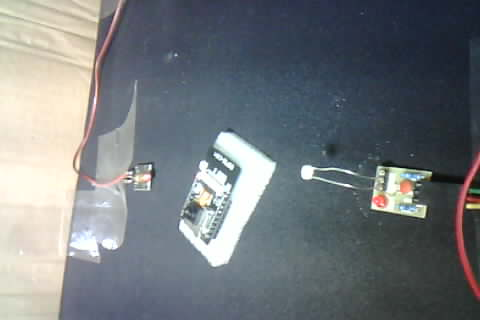esp32: (178, 132, 265, 259)
